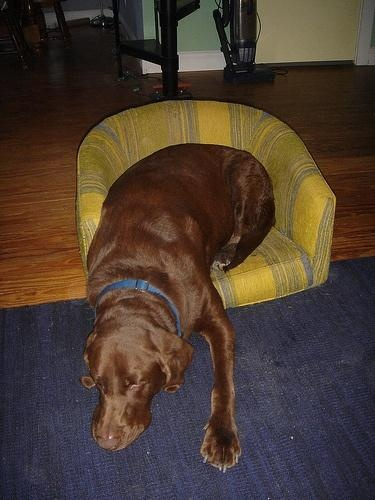dog: (78, 144, 282, 477)
